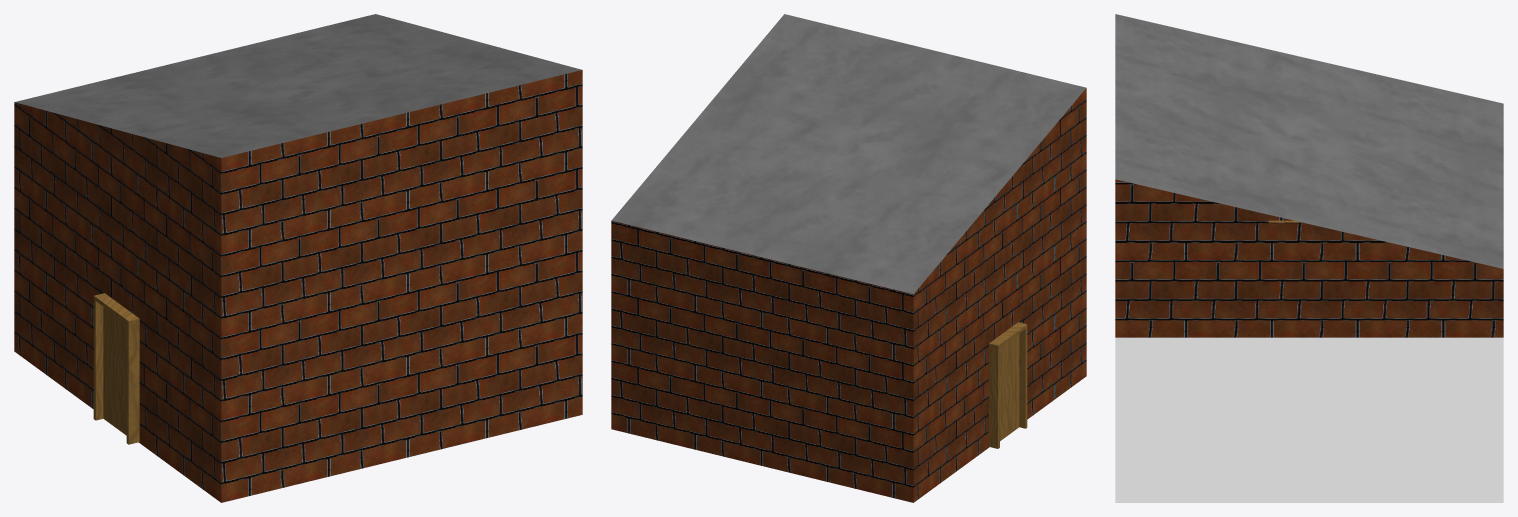
The model's file is Blocos 3.fbx.
3 renders of one model, left to right at view 1: azimuth 30°, elevation 25°; view 2: azimuth 150°, elevation 25°; view 3: azimuth 270°, elevation 25°, orthographic. The views are drawn at different scales.
Visible parts, largest first — view 1: Casa03; view 2: Casa03; view 3: Casa03.
Boxes of the visible parts, <box> form: Casa03: <box>14,14,582,502</box>; Casa03: <box>611,14,1086,502</box>; Casa03: <box>1115,14,1503,502</box>.
Bounding box in the file's own units: 813 × 720 × 783.
